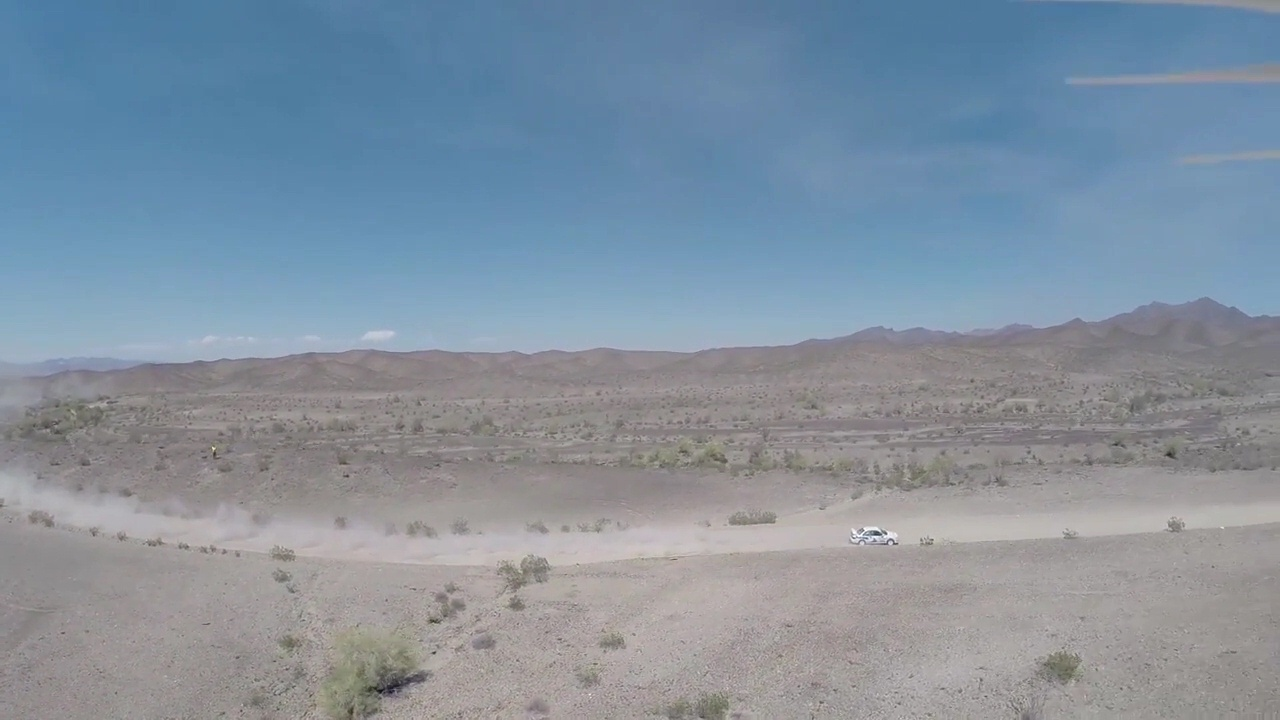araba: (847, 526, 898, 547)
insan: (208, 444, 220, 460)
